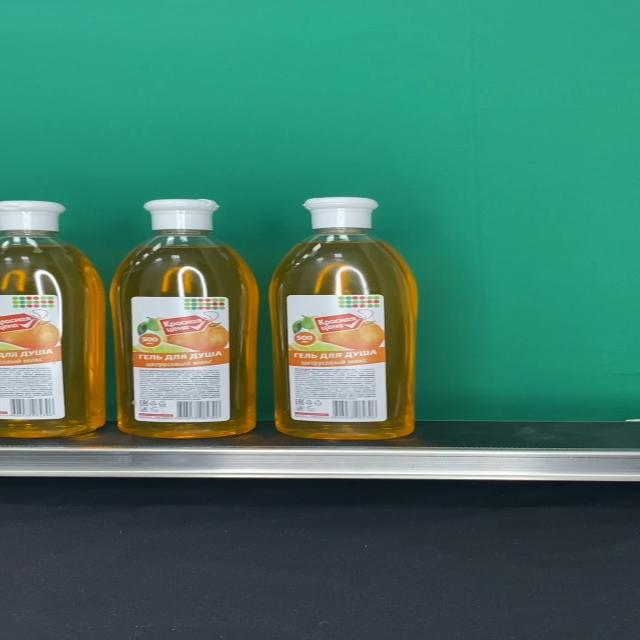Bottle: (268, 196, 418, 441), (110, 199, 260, 439)
Cap: (304, 197, 380, 230), (143, 199, 221, 231)
